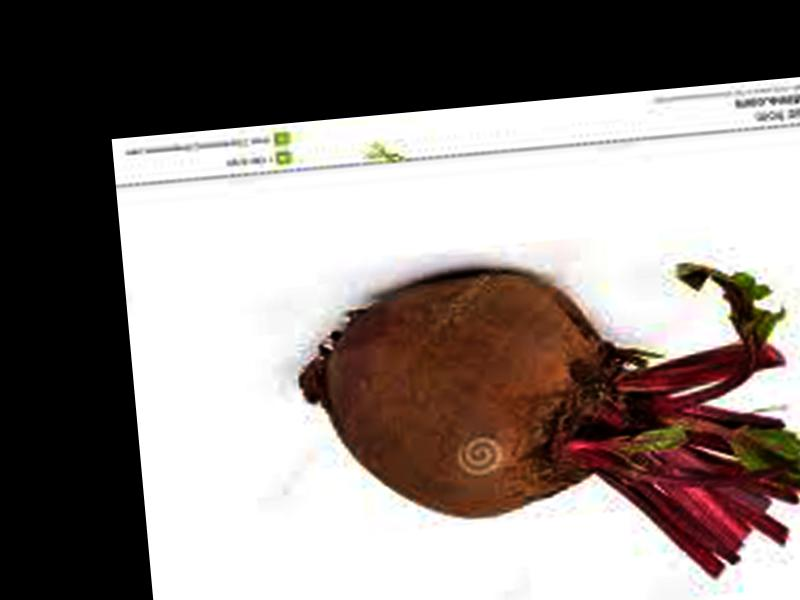Beet: (290, 242, 800, 600)
